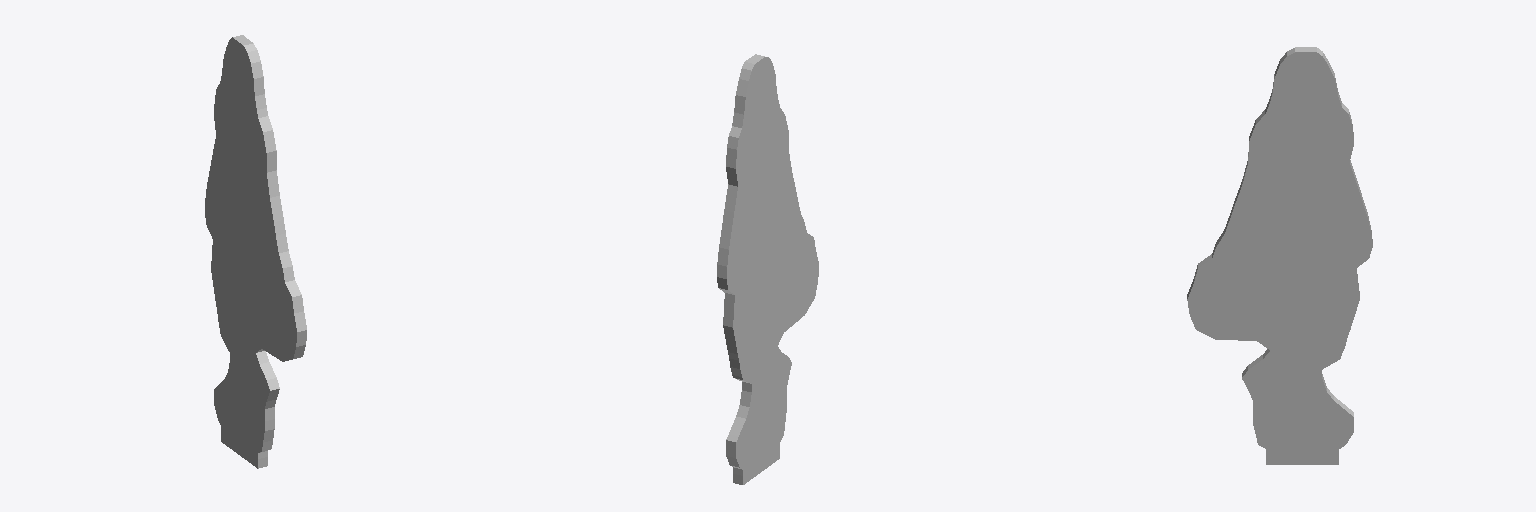
The model's file is Outline_Redhead_Geo.obj.
3 views of the same model, side by side, from view 1: azimuth 30°, elevation 25°; view 2: azimuth 150°, elevation 25°; view 3: azimuth 270°, elevation 25° (orthographic).
Visible parts, largest first — view 1: Character_Redhead_Geo:pCube1; view 2: Character_Redhead_Geo:pCube1; view 3: Character_Redhead_Geo:pCube1.
Part boxes in pixels (x1,y1,x2,y2): Character_Redhead_Geo:pCube1: (205,35,306,468); Character_Redhead_Geo:pCube1: (717,54,818,484); Character_Redhead_Geo:pCube1: (1187,47,1372,464).
Bounding box in the file's own units: 0.0567 × 2.22 × 0.9049.